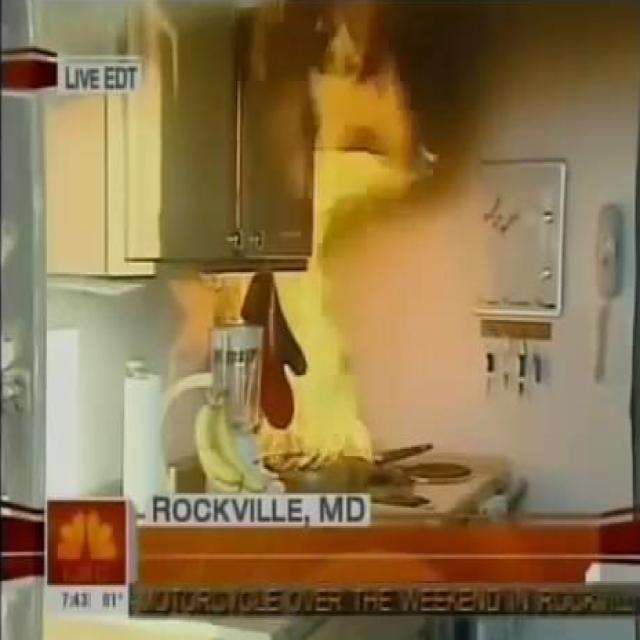smoke: (246, 25, 433, 478)
